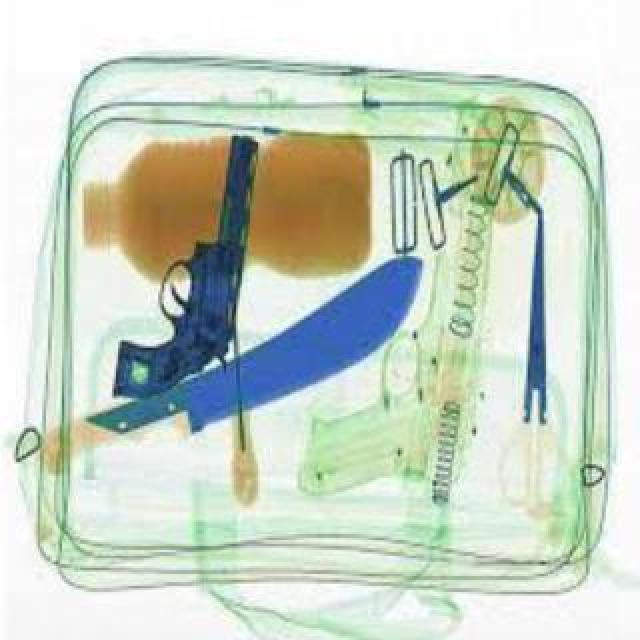gun: (116, 144, 266, 408)
knife: (86, 264, 430, 444)
